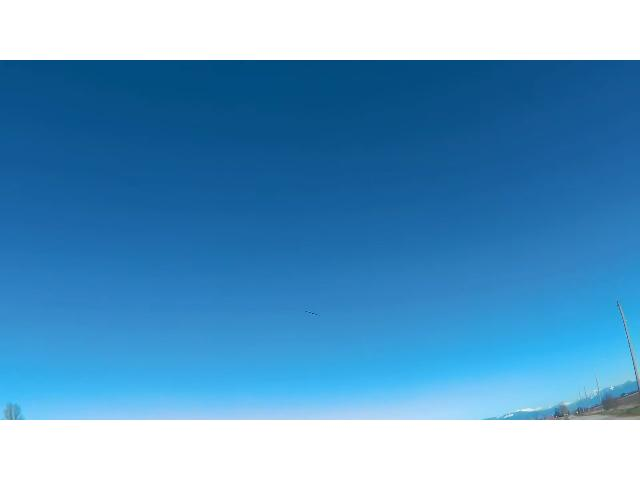Anti-Drone: (295, 302, 325, 322)
